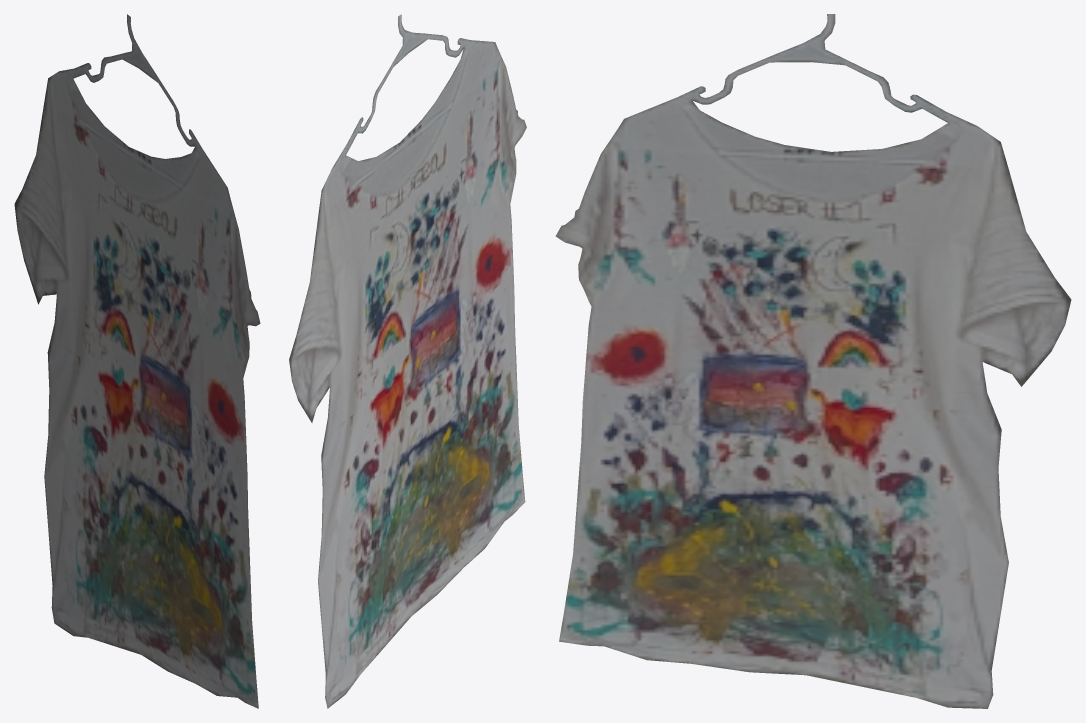
File: shirt.glb
3 renders of one model, left to right at view 1: azimuth 30°, elevation 25°; view 2: azimuth 150°, elevation 25°; view 3: azimuth 270°, elevation 25°, orthographic. The views are drawn at different scales.
Visible parts, largest first — view 1: Cube.008; view 2: Cube.008; view 3: Cube.008.
Boxes of the visible parts, x1,y1,x2,y2 form: Cube.008: (14,14,260,708); Cube.008: (289,14,526,708); Cube.008: (555,14,1071,708).
Size of the model in its own units: 0 by 32.36 by 21.77.
1 material, 1 textured.
